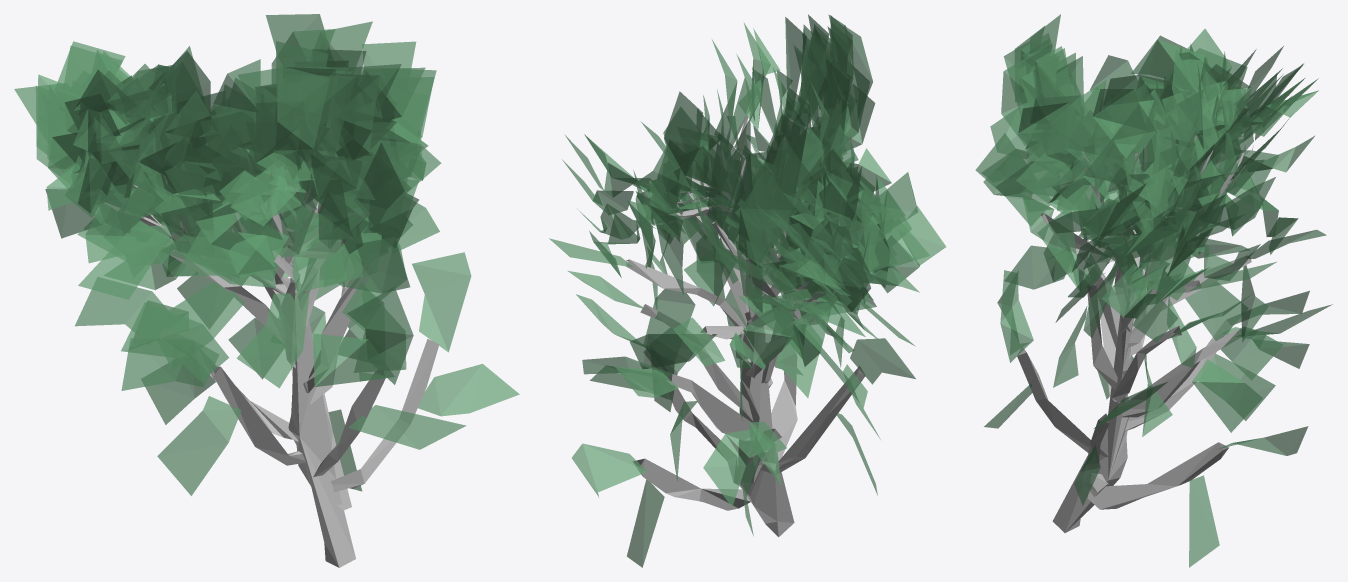
Rendered from PindCraggyTree.fbx.
The picture shows the model from 3 angles, left to right: view 1: azimuth 30°, elevation 25°; view 2: azimuth 150°, elevation 25°; view 3: azimuth 270°, elevation 25°; orthographic projection. The views are drawn at different scales.
Visible parts, largest first — view 1: pineCraggy1Leaf, pineCraggy1Main; view 2: pineCraggy1Leaf, pineCraggy1Main; view 3: pineCraggy1Leaf, pineCraggy1Main.
Boxes of the visible parts, x1,y1,x2,y2 form: pineCraggy1Leaf: (14,14,519,495); pineCraggy1Main: (104,150,439,567); pineCraggy1Leaf: (549,14,946,567); pineCraggy1Main: (626,115,865,537); pineCraggy1Leaf: (975,14,1332,567); pineCraggy1Main: (1017,135,1253,532).
Bounding box in the file's own units: 27.02 × 34.24 × 22.89.
